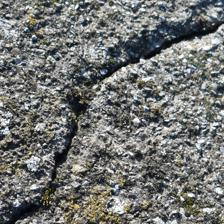Crack: (21, 88, 155, 155), (0, 90, 103, 131)
